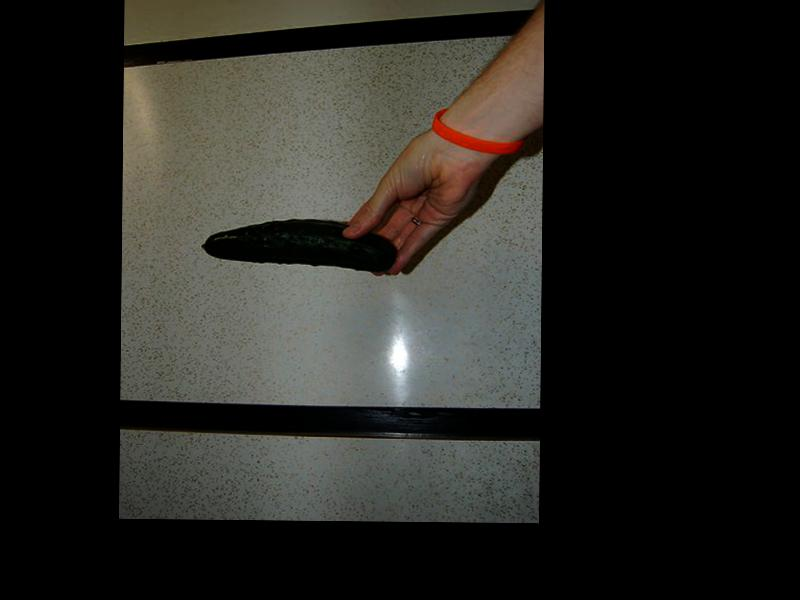Cucumber: (200, 220, 397, 272)
